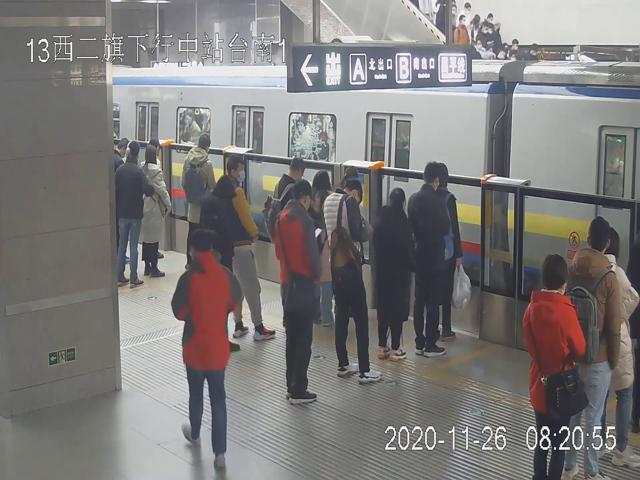person: (171, 228, 242, 468), (522, 253, 586, 480), (565, 217, 618, 480), (321, 180, 383, 384), (214, 157, 275, 343), (275, 179, 322, 404), (409, 160, 449, 356), (376, 187, 414, 360), (116, 140, 149, 288), (181, 134, 216, 266), (141, 144, 171, 276)
